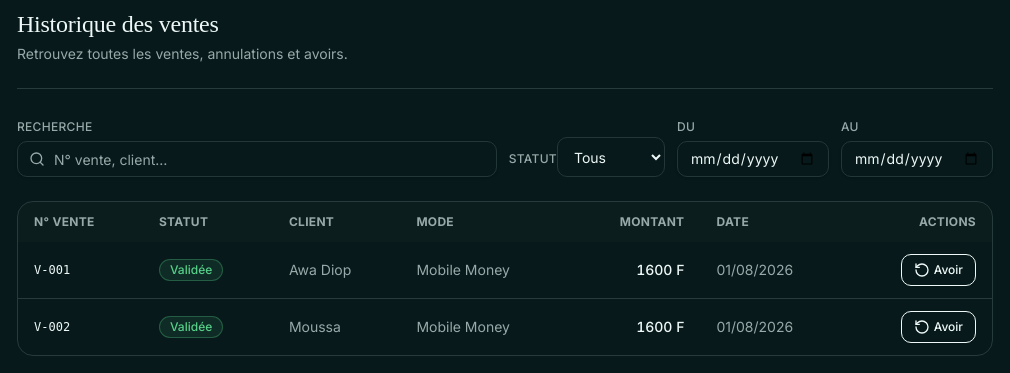
it: ScreenVentes — historique réel › filtre localement par numéro ou client
This screenshot has width=1010, height=373.
Check: the text "V-001" is shown, box [18,242,143,298]
Type "Moussa" into the field with placeholder "N° vente, client…". click: point(257, 159)
box: [17,141,497,177]
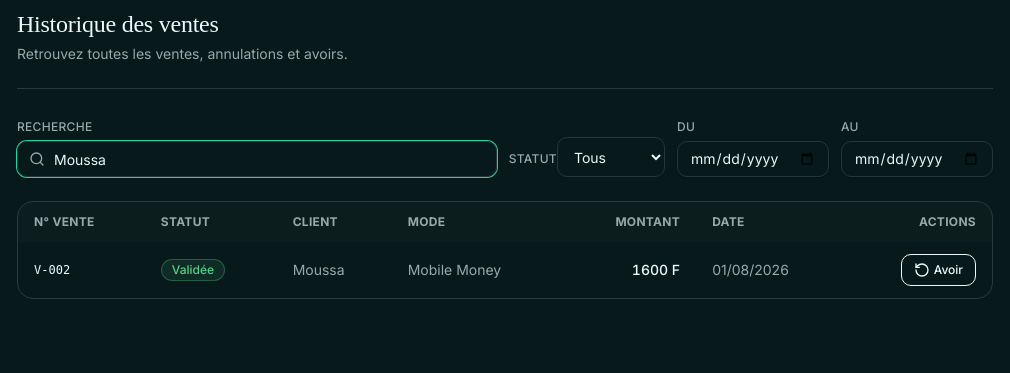
Check: the text "V-002" is shown, box [18,242,145,298]
Check: the text "V-001" is gone
